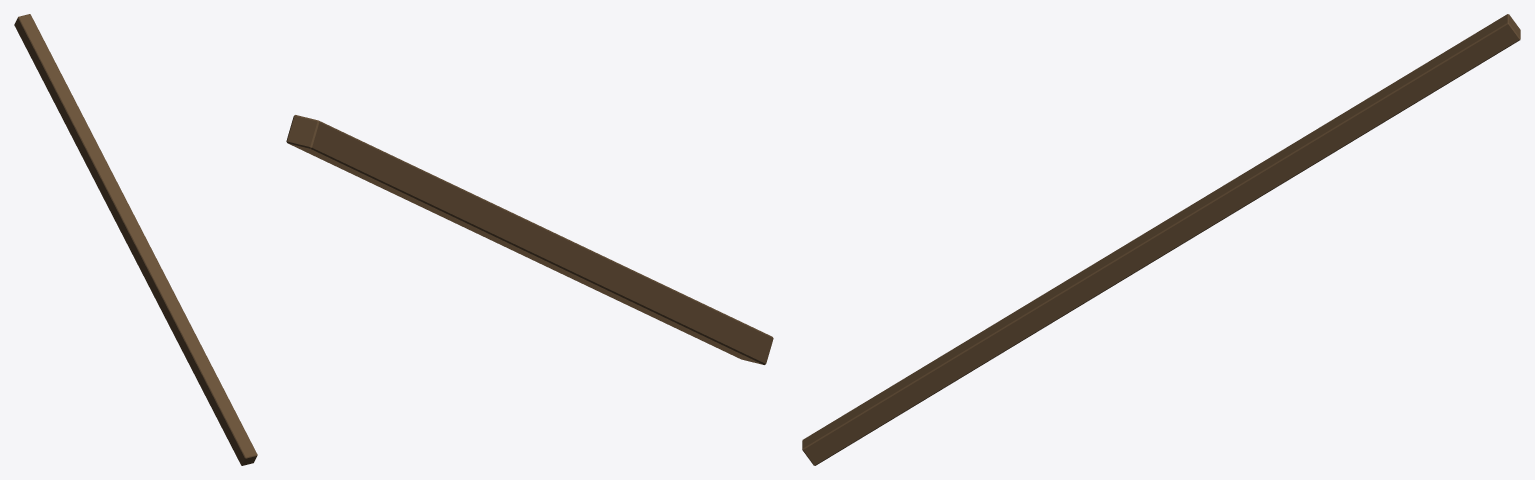
File: SM_WL_GableTrimHalf4m.fbx
3 views of the same model, side by side, from view 1: azimuth 30°, elevation 25°; view 2: azimuth 150°, elevation 25°; view 3: azimuth 270°, elevation 25° (orthographic). The views are drawn at different scales.
Parts seen in each view (by area): view 1: SM_WL_GableTrimHalf4m; view 2: SM_WL_GableTrimHalf4m; view 3: SM_WL_GableTrimHalf4m.
Part boxes in pixels (x1=…): SM_WL_GableTrimHalf4m: x1=14, y1=14, x2=257, y2=465; SM_WL_GableTrimHalf4m: x1=286, y1=115, x2=773, y2=364; SM_WL_GableTrimHalf4m: x1=802, y1=14, x2=1520, y2=465.
Size of the model in its own units: 4.37 by 0.14 by 2.98.
